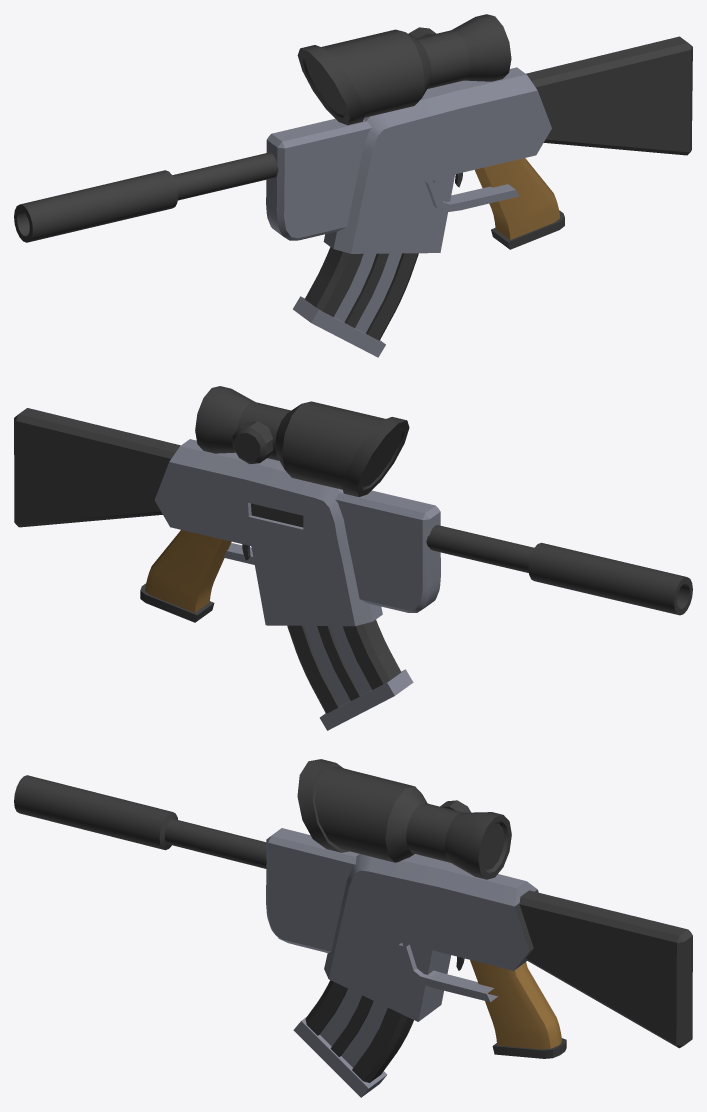
The model's file is Sniper.glb.
3 renders of one model, top to bottom at view 1: azimuth 30°, elevation 25°; view 2: azimuth 150°, elevation 25°; view 3: azimuth 330°, elevation 25°, orthographic.
Visible parts, largest first — view 1: Sniper; view 2: Sniper; view 3: Sniper.
Part boxes in pixels (x1=…): Sniper: x1=14, y1=14, x2=692, y2=357; Sniper: x1=14, y1=386, x2=692, y2=730; Sniper: x1=14, y1=759, x2=692, y2=1097.
Bounding box in the file's own units: 0.6108 × 0.2764 × 0.0683.
